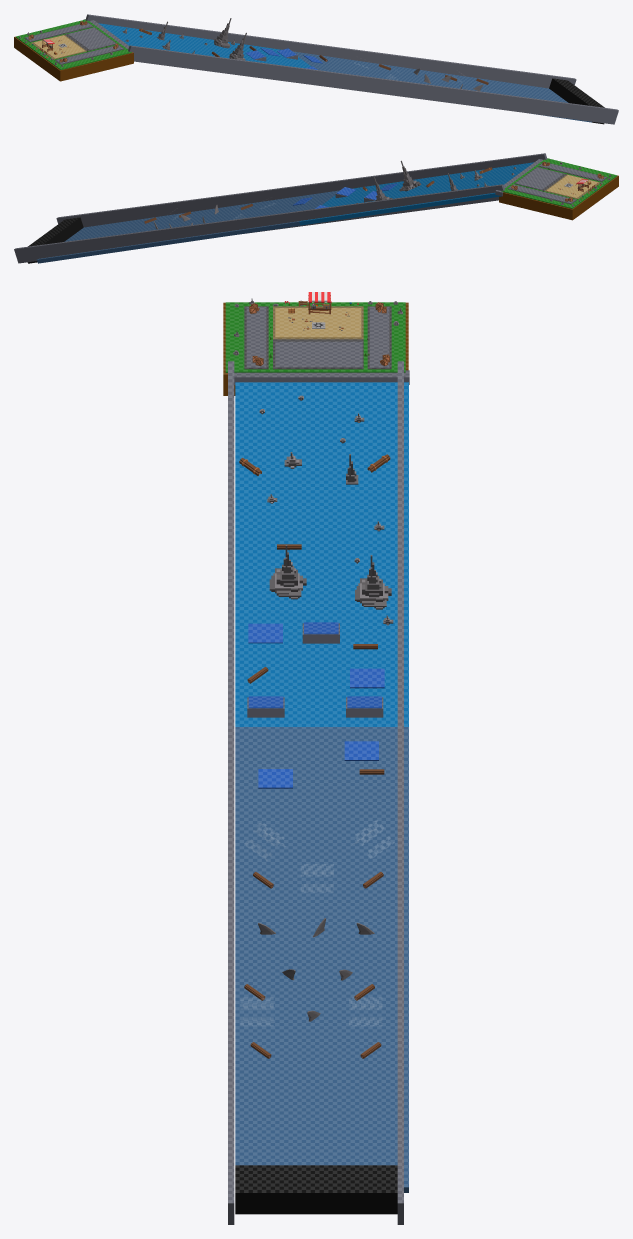
File: BrokenBonesV5.gltf
3 views of the same model, one above another, from view 1: azimuth 30°, elevation 25°; view 2: azimuth 150°, elevation 25°; view 3: azimuth 270°, elevation 25° (orthographic). The views are drawn at different scales.
Visible parts, largest first — view 1: Grass13, Grass11, Grass15, Grass12, Grass, Grass1, Grass14, Grass7, Grass8, Grass6, Grass9, Grass10; view 2: Grass11, Grass13, Grass15, Grass12, Grass, Grass1, Grass14, Grass7, Grass8, Grass9, Grass6, Grass10; view 3: Grass15, Grass12, Grass14, Grass11, Grass13, Grass1, Grass8, Grass7, Grass10.
Part boxes in pixels (x1,y1,x2,y2): Grass13: [128, 45, 618, 124]; Grass11: [85, 14, 576, 88]; Grass15: [293, 51, 591, 122]; Grass12: [98, 23, 311, 68]; Grass: [14, 36, 133, 81]; Grass1: [16, 19, 131, 69]; Grass14: [549, 78, 604, 124]; Grass7: [68, 27, 115, 49]; Grass8: [33, 35, 84, 58]; Grass6: [25, 22, 92, 41]; Grass9: [56, 45, 122, 63]; Grass10: [83, 19, 135, 55]; Grass11: [14, 184, 504, 263]; Grass13: [56, 153, 547, 227]; Grass15: [37, 190, 339, 263]; Grass12: [299, 162, 533, 225]; Grass: [499, 175, 618, 220]; Grass1: [501, 158, 617, 208]; Grass14: [27, 217, 83, 263]; Grass7: [516, 167, 563, 189]; Grass8: [546, 175, 597, 198]; Grass9: [539, 162, 606, 180]; Grass6: [508, 184, 575, 203]; Grass10: [495, 159, 542, 196]; Grass15: [235, 727, 408, 1192]; Grass12: [235, 382, 408, 726]; Grass14: [235, 1165, 397, 1214]; Grass11: [397, 361, 403, 1224]; Grass13: [228, 361, 234, 1224]; Grass1: [225, 302, 405, 372]; Grass8: [275, 308, 361, 337]; Grass7: [275, 341, 362, 367]; Grass10: [234, 370, 409, 384].
Bounding box in the file's own units: 1166 × 398 × 168.
51 materials, 2 textured.
